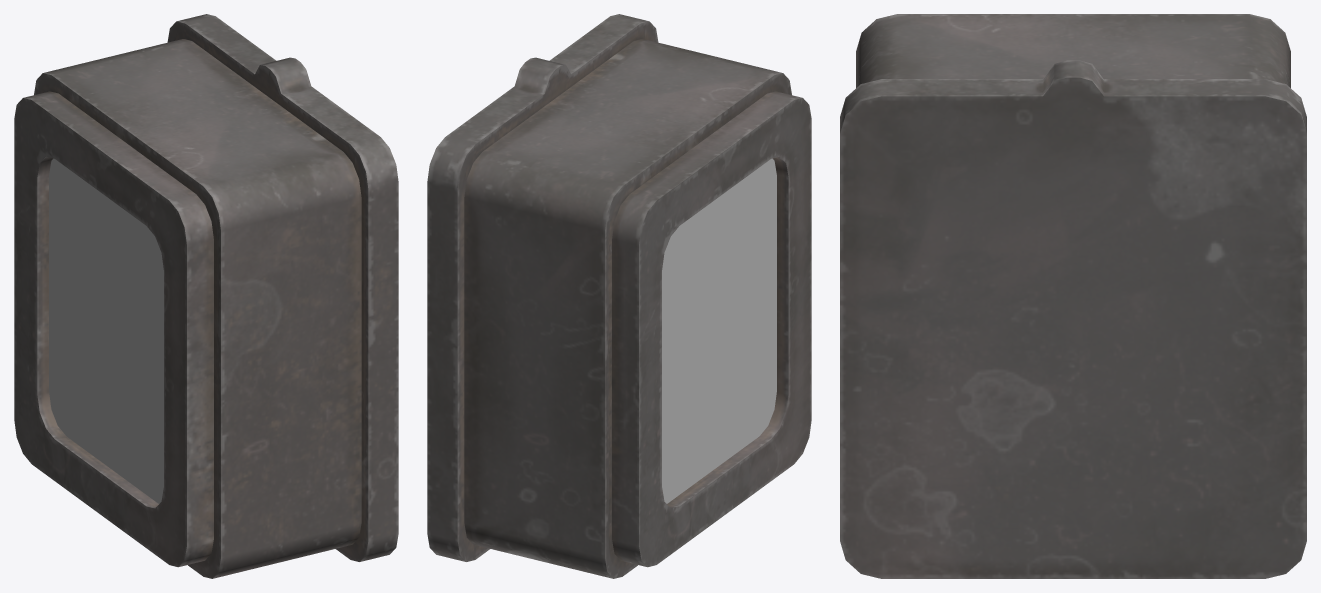
Rendered from ElectricalMeter_A.fbx.
3 renders of one model, left to right at view 1: azimuth 30°, elevation 25°; view 2: azimuth 150°, elevation 25°; view 3: azimuth 270°, elevation 25°, orthographic. The views are drawn at different scales.
Parts seen in each view (by area): view 1: EletricalMeter_A; view 2: EletricalMeter_A; view 3: EletricalMeter_A.
Part boxes in pixels (box(x1,y1,x2,y2)): EletricalMeter_A: box(14, 14, 398, 578); EletricalMeter_A: box(427, 14, 811, 578); EletricalMeter_A: box(840, 14, 1306, 578).
Size of the model in its own units: 10.32 by 21.54 by 18.17.
